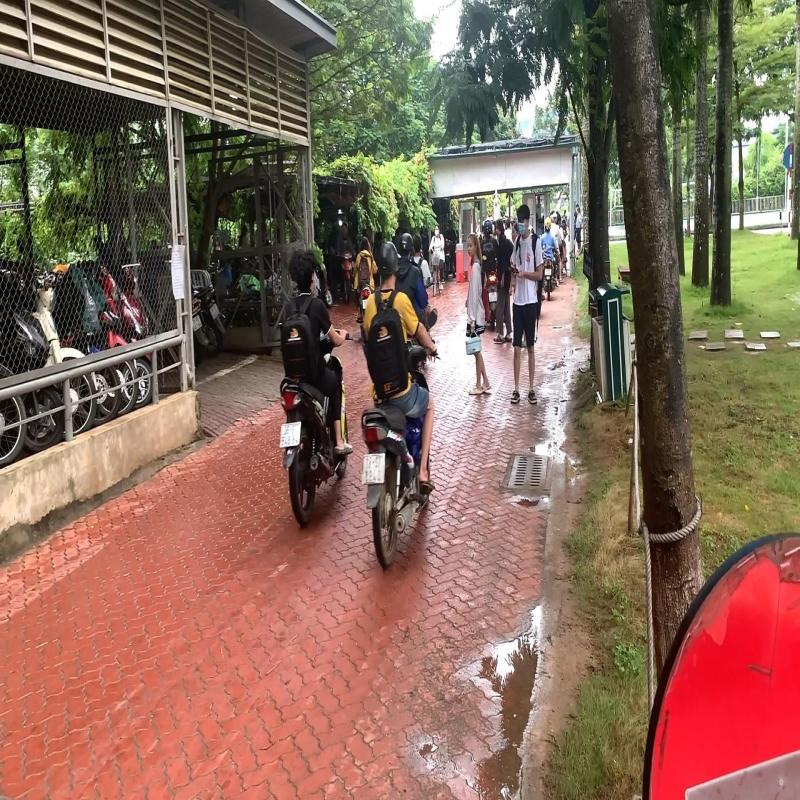nohelmet: (286, 243, 322, 298)
